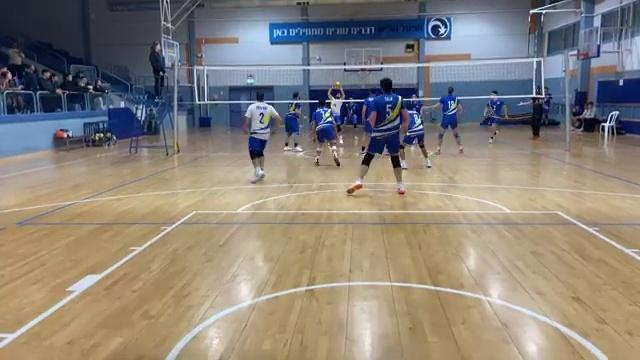ball: (332, 80, 343, 90)
